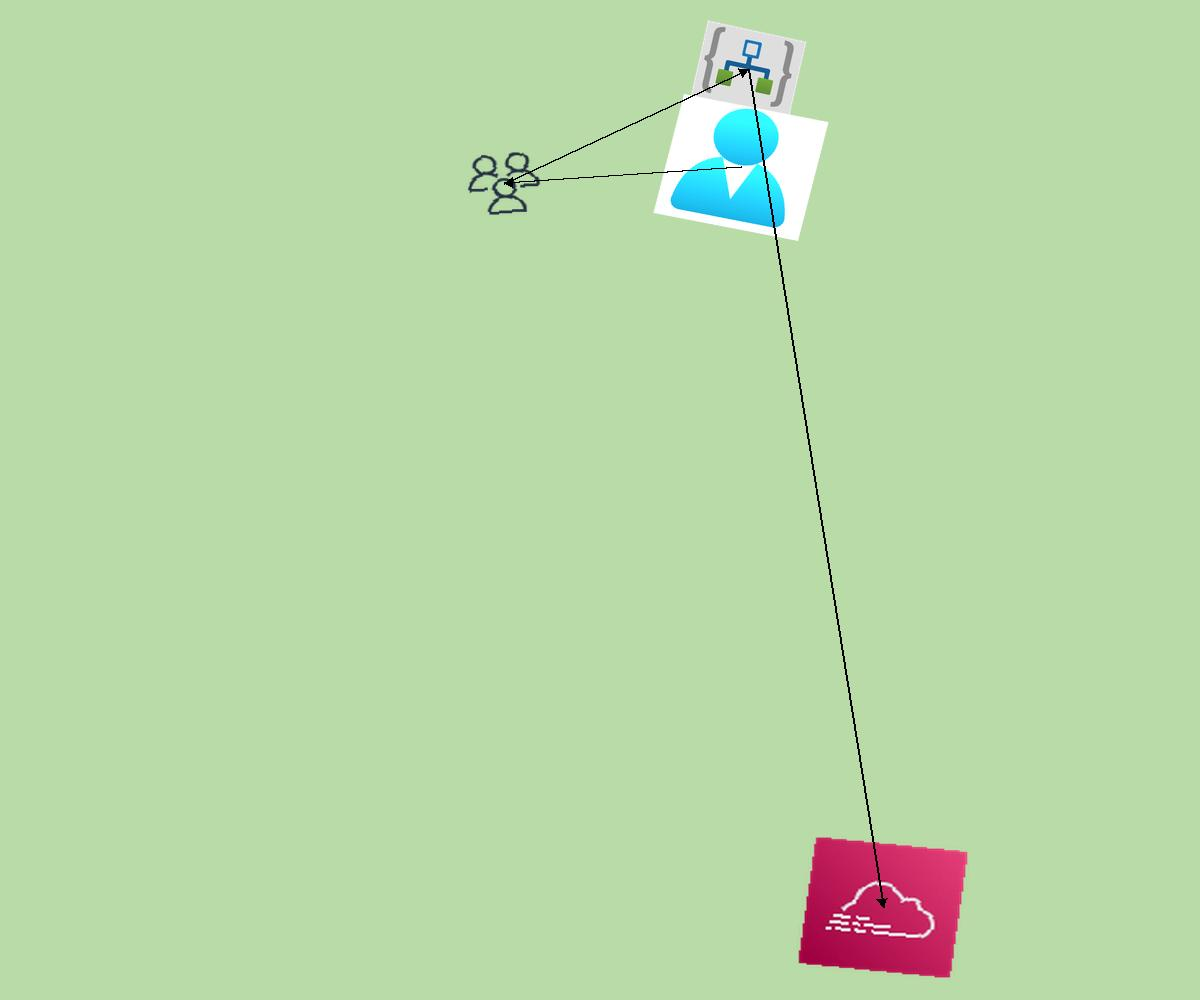AWS-CloudTrail: (797, 836, 969, 979)
AWS-Res_Users: (460, 147, 548, 220)
Azure_integration-204-Logic-Apps: (690, 20, 807, 118)
Azure_users: (653, 94, 829, 241)
